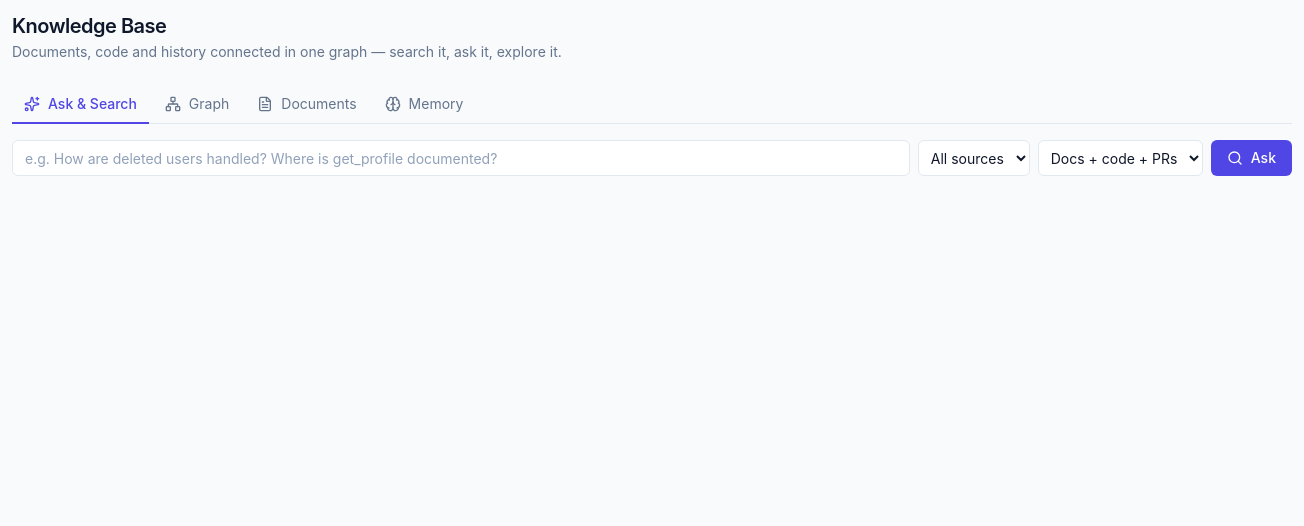
Test case: Knowledge page › lets people rate an answer; a thumbs-down asks what was wrong
The image size is (1304, 526).
In the field named "Question": (461, 158) [12,140,910,176], type "how many retries"
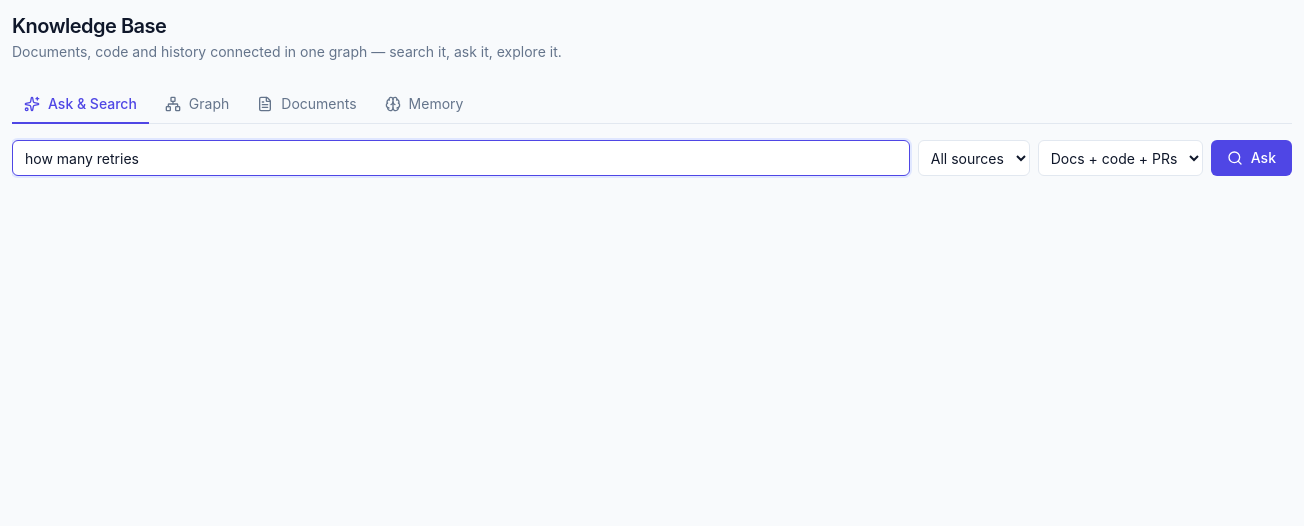
Click the button "Ask": (1251, 158) [1211,140,1292,176]
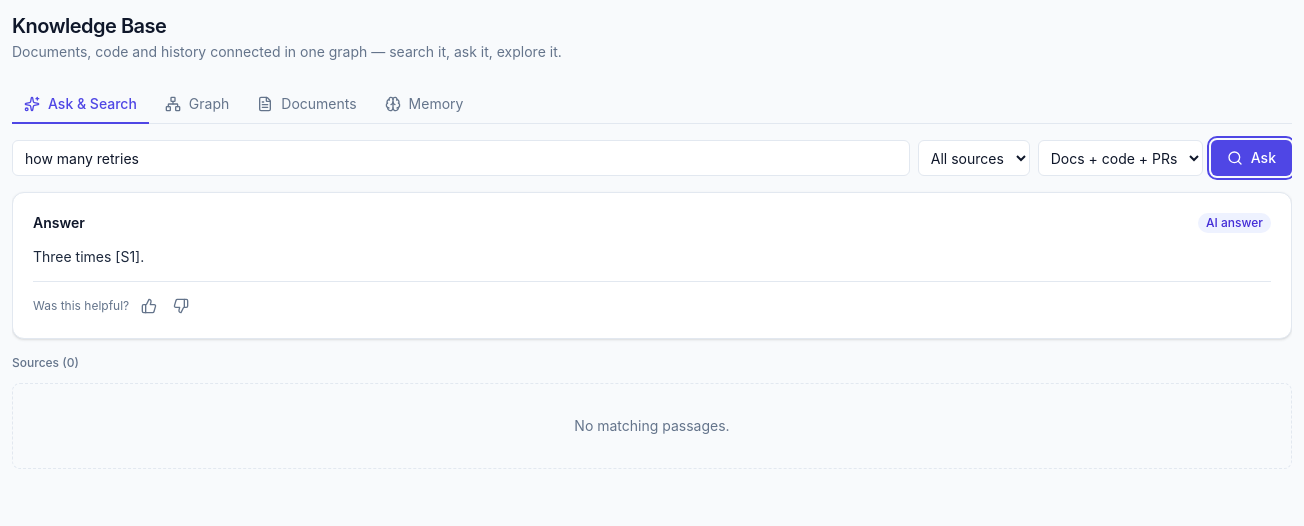
expect the text "Three times [S1]." is shown: met, box [33,248,144,265]
Click the button named "Not helpful": (181, 306) [169,294,193,318]
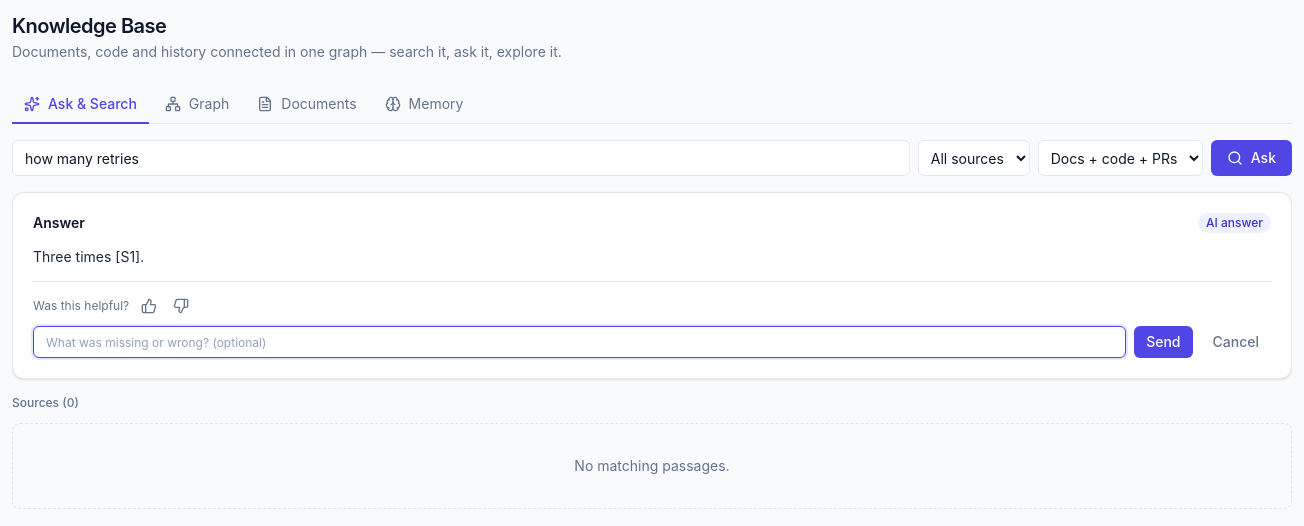
In the field named "What was wrong?": (580, 342) [33,326,1126,358], type "missed the backoff"
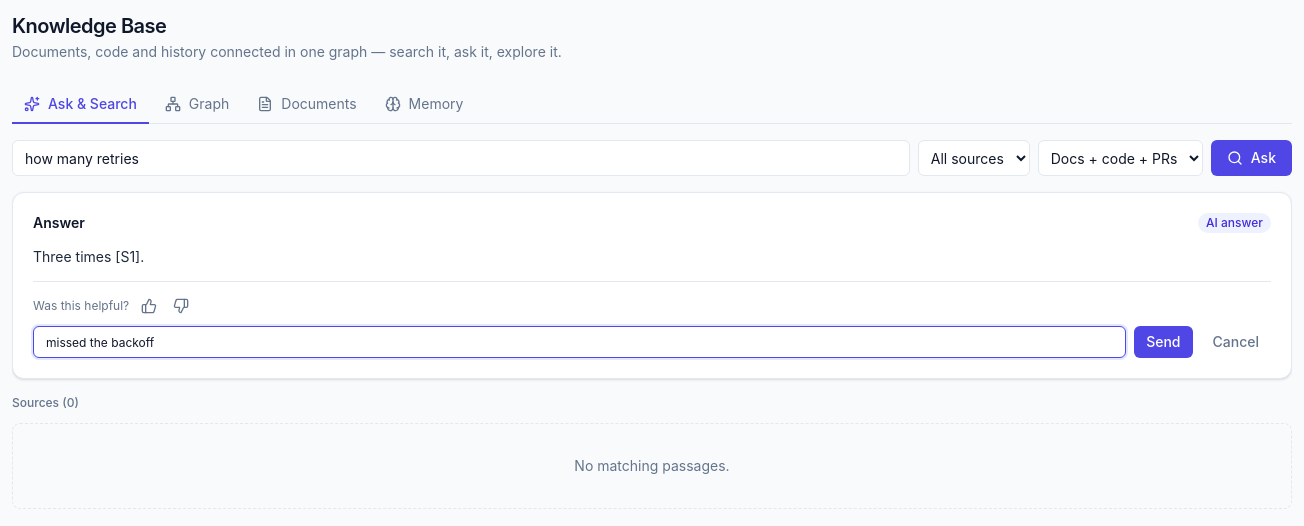
Click the button "Send": (1163, 342) [1134,326,1192,358]
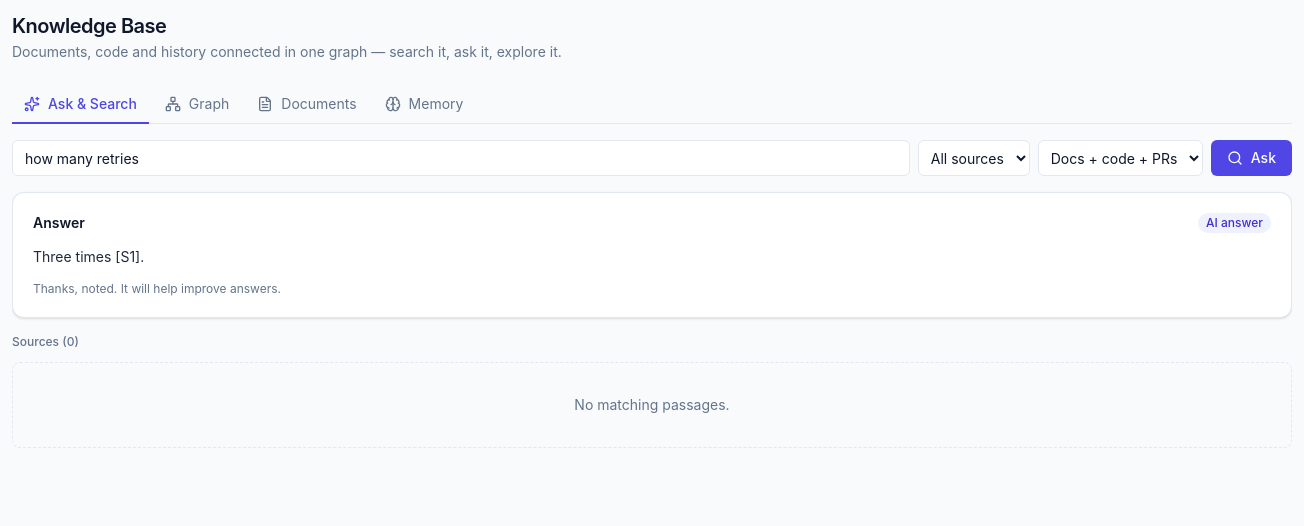
expect the text "Thanks, noted. It will help improve answers." is shown: met, box [33,281,281,296]
